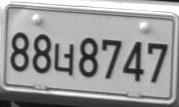4: (122, 40, 144, 81)
7: (147, 41, 169, 82), (101, 38, 121, 79)
8: (77, 36, 99, 78), (9, 31, 30, 72), (31, 33, 52, 74)
너: (53, 42, 74, 75)
